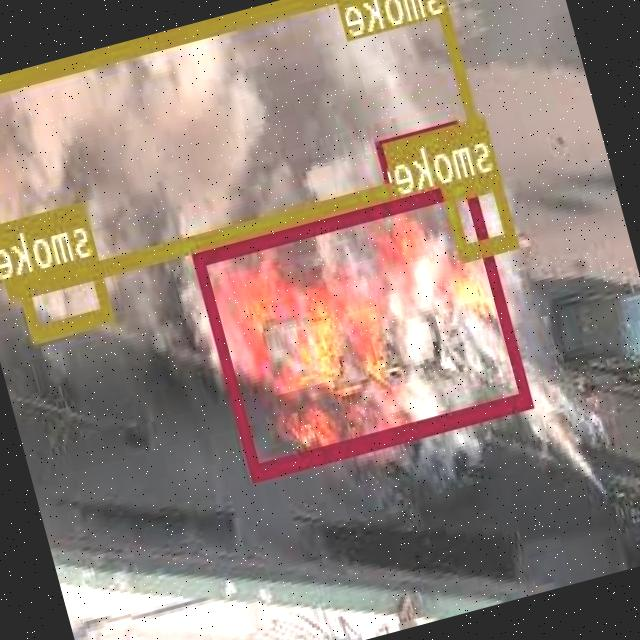fire: (192, 172, 535, 478)
smoke: (0, 0, 491, 295), (17, 255, 116, 341), (444, 170, 518, 256)
